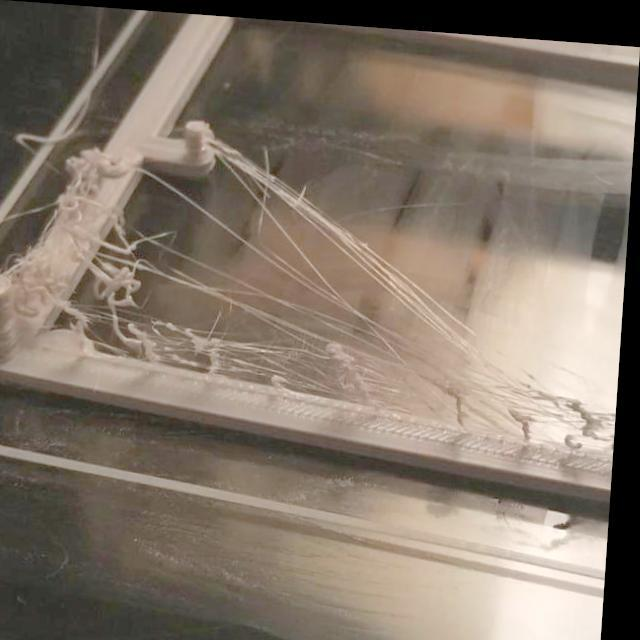stringing: (218, 134, 548, 414), (97, 224, 397, 342), (464, 378, 614, 444), (325, 338, 464, 403), (213, 332, 329, 373), (121, 309, 209, 361)
